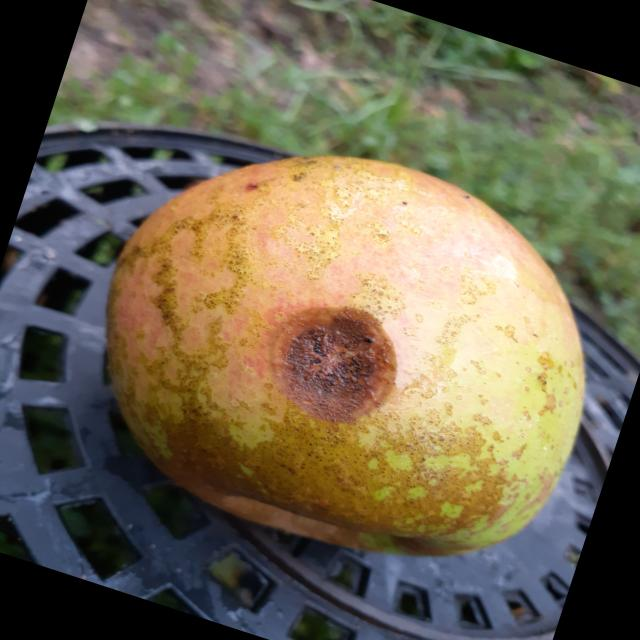rotten: (45, 79, 640, 621)
